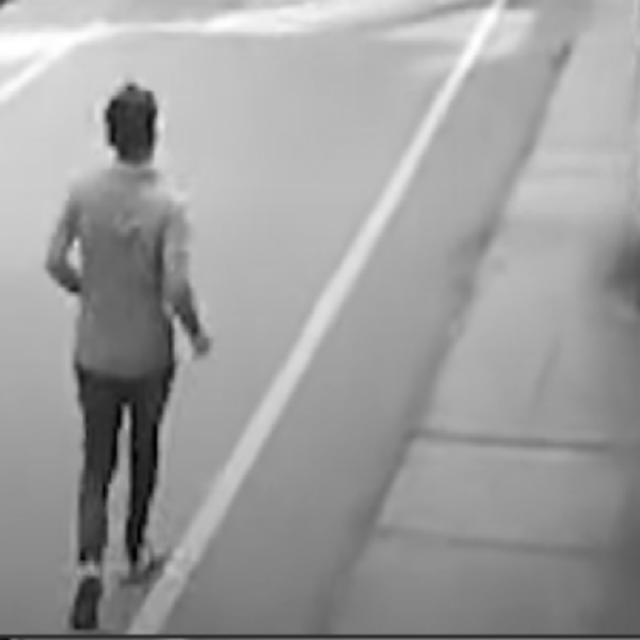Invader: (42, 82, 212, 629)
